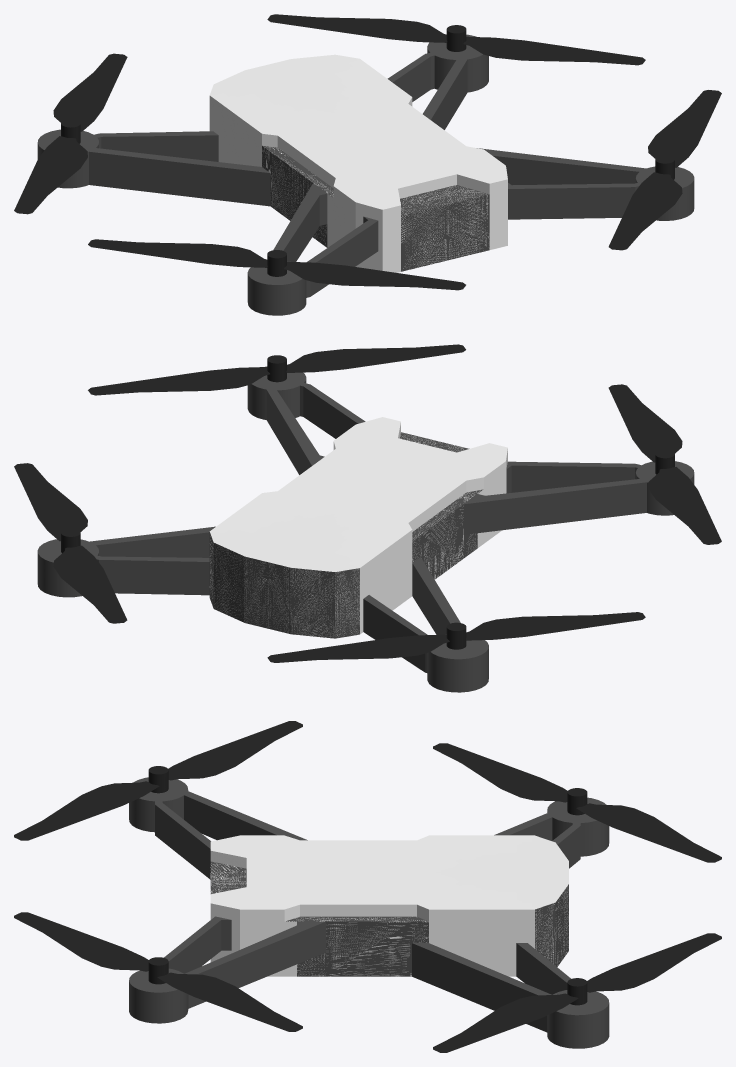
3 views of the same model, one above another, from view 1: azimuth 30°, elevation 25°; view 2: azimuth 150°, elevation 25°; view 3: azimuth 270°, elevation 25° (orthographic).
Parts seen in each view (by area): view 1: body001 (×5), group_5 (×2), group_4 (×2), group_2 (×4), group_1 (×4), group_3, group_0; view 2: body001 (×5), group_4 (×2), group_5 (×2), group_2 (×4), group_1 (×4); view 3: body001 (×5), group_4 (×2), group_5 (×2), group_2 (×4), group_1 (×4).
Boxes of the visible parts, left/top/right/bottom form: body001 (×5): left=209, top=54, right=507, bottom=272; group_5 (×2): left=37, top=34, right=488, bottom=206; group_4 (×2): left=247, top=148, right=694, bottom=315; group_2 (×4): left=53, top=14, right=682, bottom=290; group_1 (×4): left=14, top=36, right=721, bottom=267; group_3: left=446, top=25, right=466, bottom=51; group_0: left=267, top=250, right=286, bottom=276; body001 (×5): left=209, top=417, right=507, bottom=638; group_4 (×2): left=247, top=366, right=694, bottom=534; group_5 (×2): left=37, top=526, right=488, bottom=692; group_2 (×4): left=53, top=344, right=682, bottom=662; group_1 (×4): left=14, top=367, right=721, bottom=640; body001 (×5): left=210, top=835, right=568, bottom=976; group_4 (×2): left=129, top=777, right=325, bottom=1023; group_5 (×2): left=412, top=797, right=609, bottom=1048; group_2 (×4): left=14, top=781, right=721, bottom=992; group_1 (×4): left=157, top=721, right=578, bottom=1052.
Size of the model in its own units: 4.88 by 4.7 by 0.5413.
Materials: 3 (1 with a texture image).
